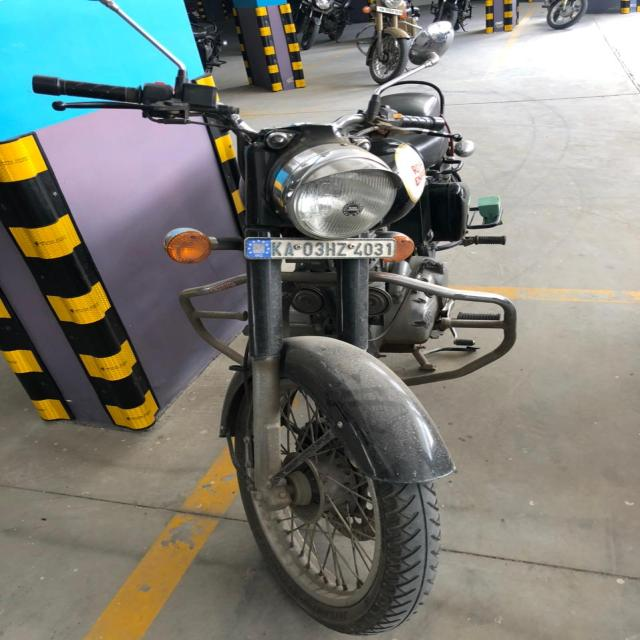number plate: (243, 236, 396, 260)
